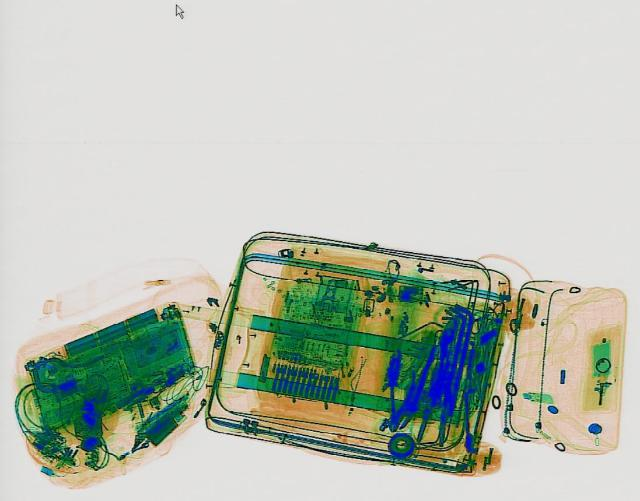Pliers: (378, 358, 419, 431)
